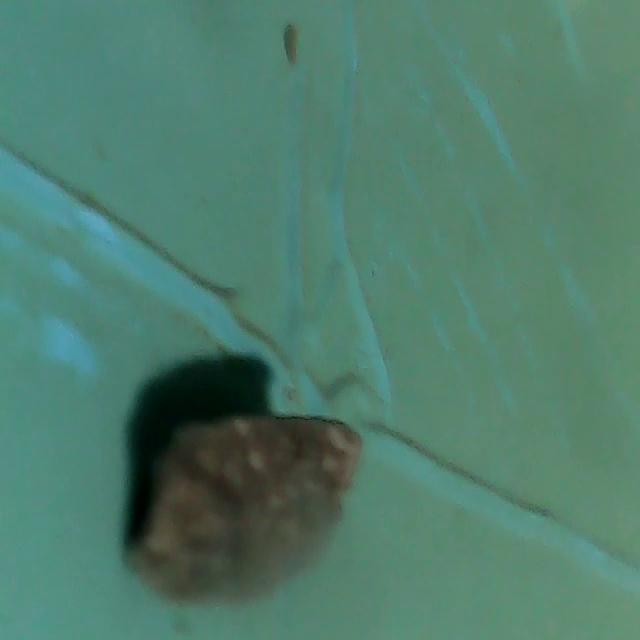rock: (124, 394, 364, 614)
